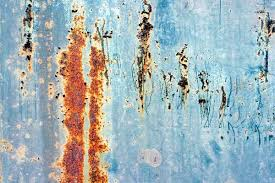rust: (63, 40, 111, 183)
